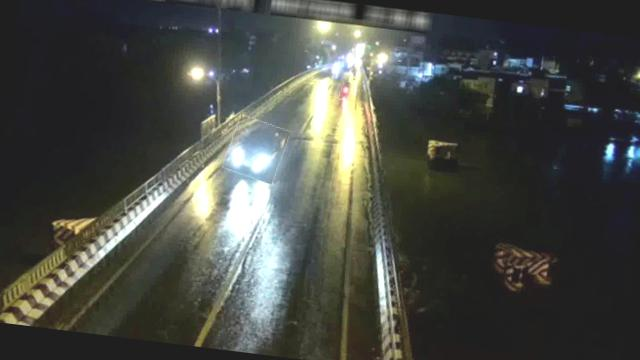Bike: (338, 80, 352, 100)
Car: (223, 115, 288, 183)
